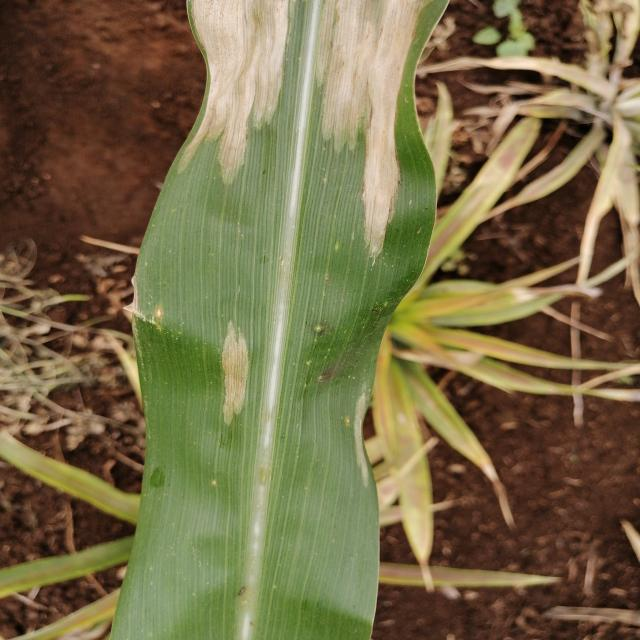Corn_Leaf_Blight: (130, 0, 437, 640)
